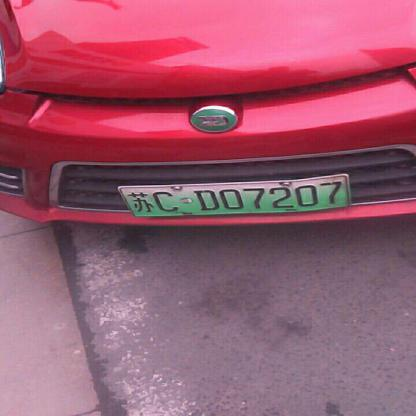lp: (121, 174, 348, 216)
